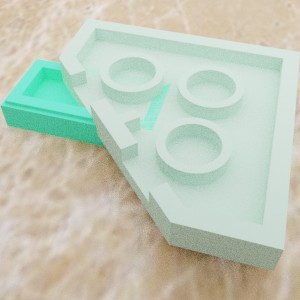lego: (58, 18, 300, 271), (0, 58, 176, 157)
